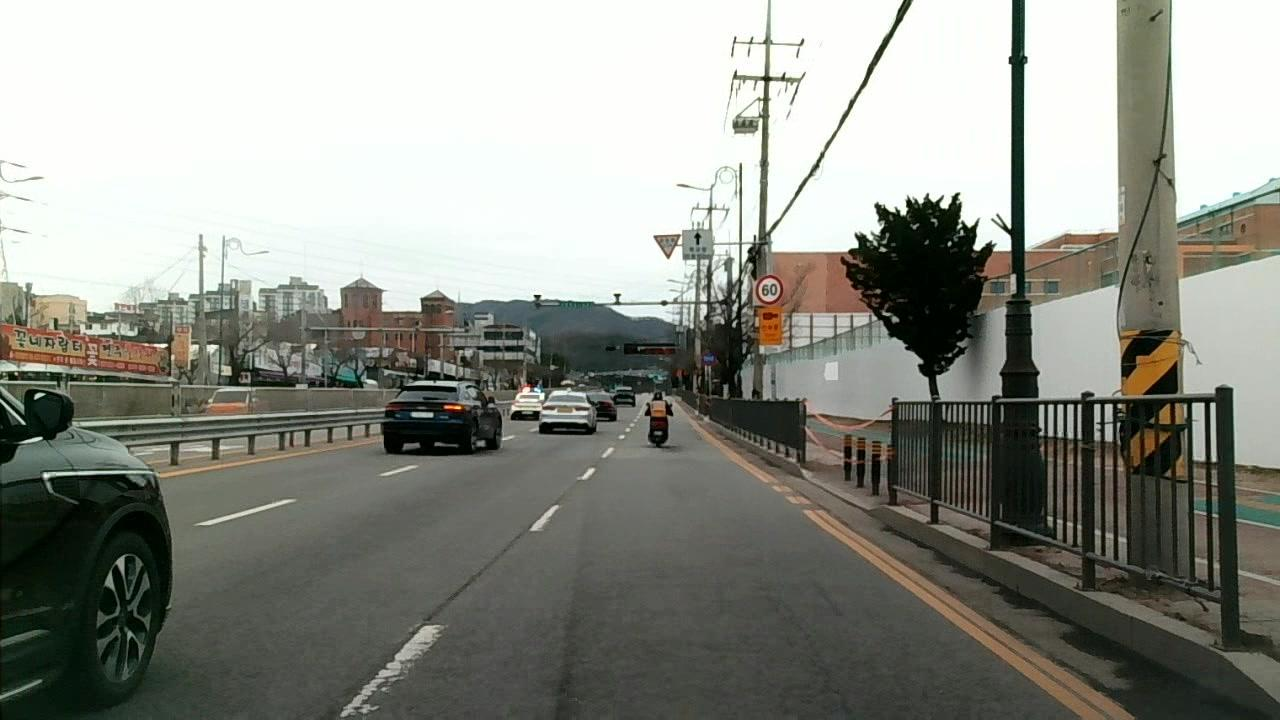vcrack: (422, 530, 527, 614)
